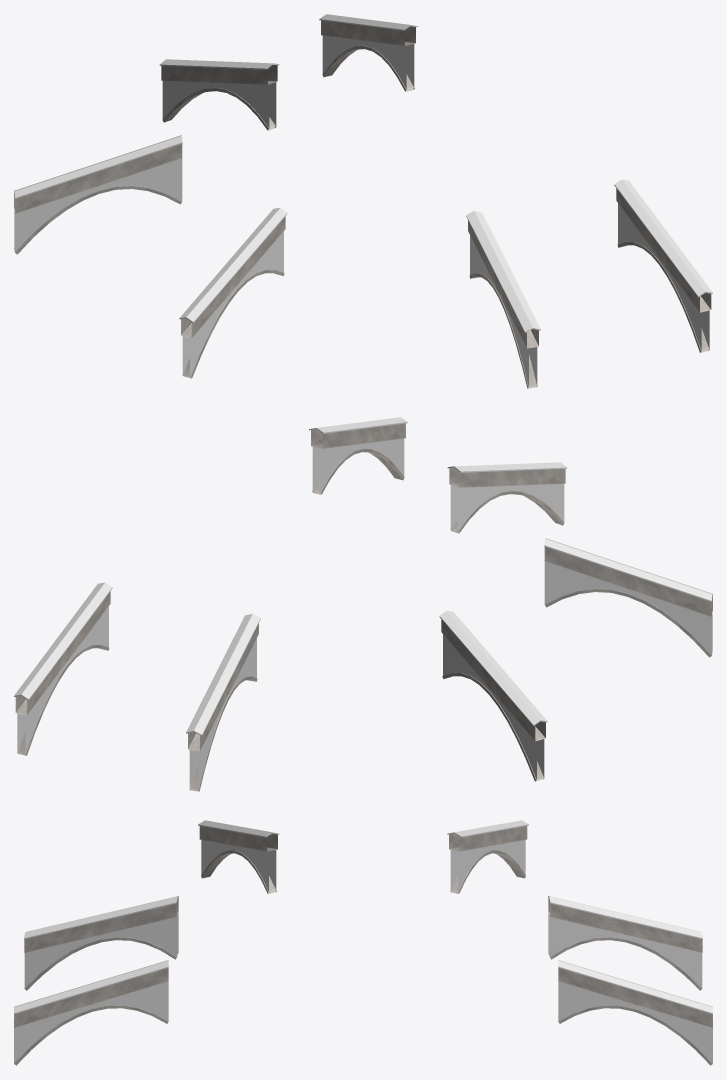
File: Ambulatory_Buttress_A.fbx
The picture shows the model from 3 angles, top to bottom: view 1: azimuth 30°, elevation 25°; view 2: azimuth 150°, elevation 25°; view 3: azimuth 270°, elevation 25°; orthographic projection. The views are drawn at different scales.
Parts seen in each view (by area): view 1: Ambulatory_Buttress_A; view 2: Ambulatory_Buttress_A; view 3: Ambulatory_Buttress_A.
Boxes of the visible parts, left/top/right/bottom form: Ambulatory_Buttress_A: left=14, top=14, right=712, bottom=388; Ambulatory_Buttress_A: left=14, top=417, right=712, bottom=791; Ambulatory_Buttress_A: left=14, top=820, right=712, bottom=1065.
Bounding box in the file's own units: 15.01 × 23.11 × 3.77.
